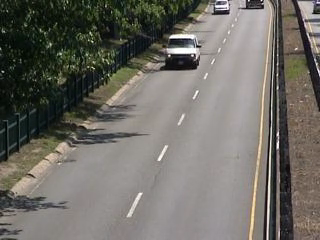car: (211, 1, 232, 16)
truck: (163, 32, 200, 70), (244, 1, 266, 10)
